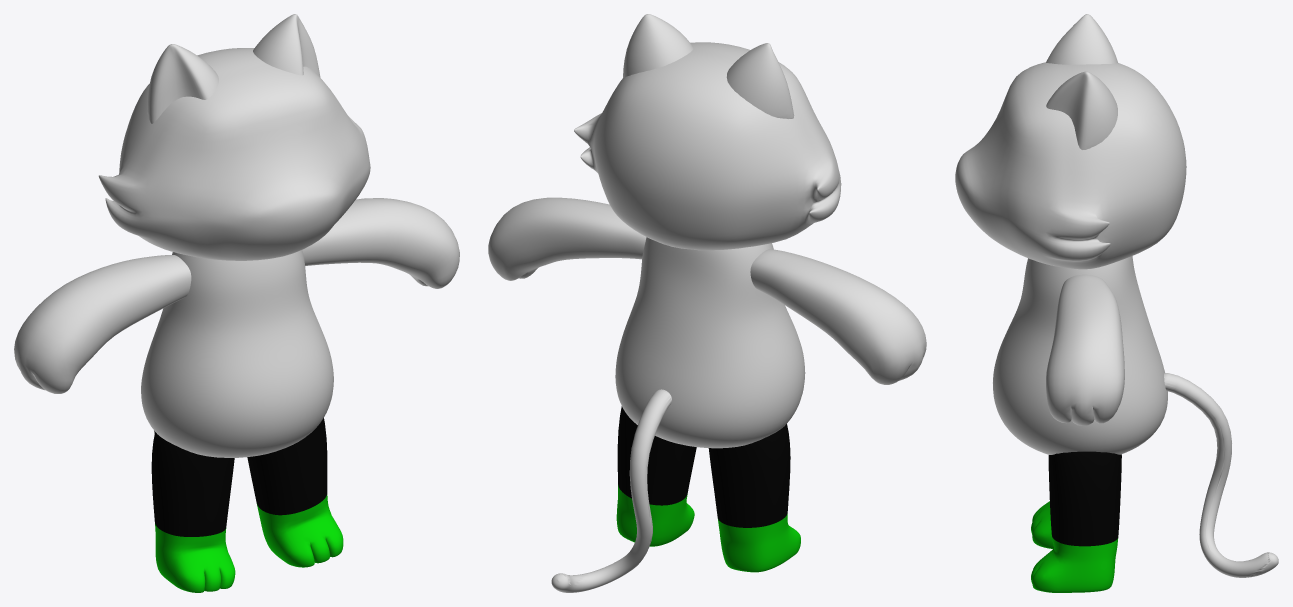
The model's file is Cat.fbx.
The picture shows the model from 3 angles, left to right: view 1: azimuth 30°, elevation 25°; view 2: azimuth 150°, elevation 25°; view 3: azimuth 270°, elevation 25°; orthographic projection. The views are drawn at different scales.
Visible parts, largest first — view 1: face, pCube2, pCube15, pCube12, pCube14, pCube9, pCube34; view 2: face, pCube2, pCube15, pCube12, pCube9, pCube14, pCube34, pCylinder2; view 3: face, pCube2, pCube14, pCube9, pCube34, pCylinder2, pCube12.
Boxes of the visible parts, box(x1,y1,x2,y2) form: face: box(98, 48, 370, 260); pCube2: box(141, 250, 333, 457); pCube15: box(14, 255, 191, 393); pCube12: box(151, 432, 235, 592); pCube14: box(247, 418, 343, 567); pCube9: box(302, 198, 459, 288); pCube34: box(147, 14, 320, 123); face: box(574, 42, 841, 250); pCube2: box(615, 237, 805, 448); pCube15: box(750, 249, 926, 384); pCube12: box(708, 424, 800, 572); pCube9: box(488, 197, 646, 280); pCube14: box(616, 406, 696, 546); pCube34: box(623, 14, 794, 118); pCylinder2: box(551, 389, 671, 592); face: box(955, 62, 1186, 269); pCube2: box(993, 256, 1167, 454); pCube14: box(1031, 451, 1121, 592); pCube9: box(1046, 274, 1124, 425); pCube34: box(1046, 14, 1117, 149); pCylinder2: box(1164, 373, 1278, 577); pCube12: box(1031, 501, 1053, 548).
Bounding box in the file's own units: 448 × 526 × 298.
